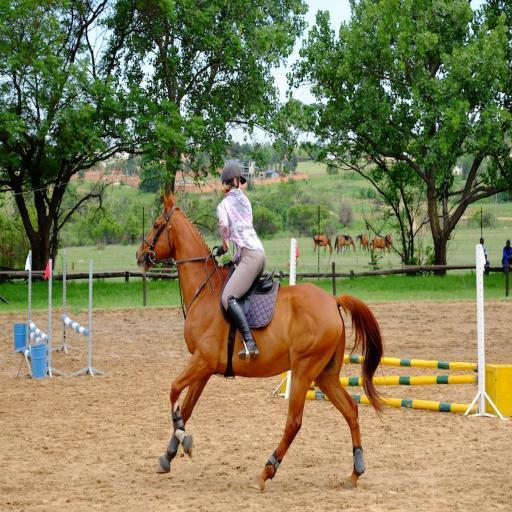horse: (136, 187, 383, 492), (333, 232, 356, 255), (312, 234, 334, 254), (373, 235, 393, 252), (355, 234, 370, 256)
